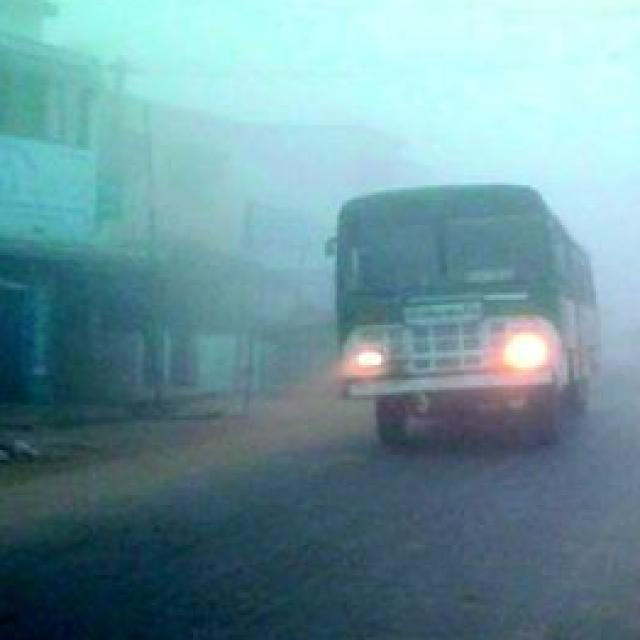bus_front: (324, 171, 608, 461)
